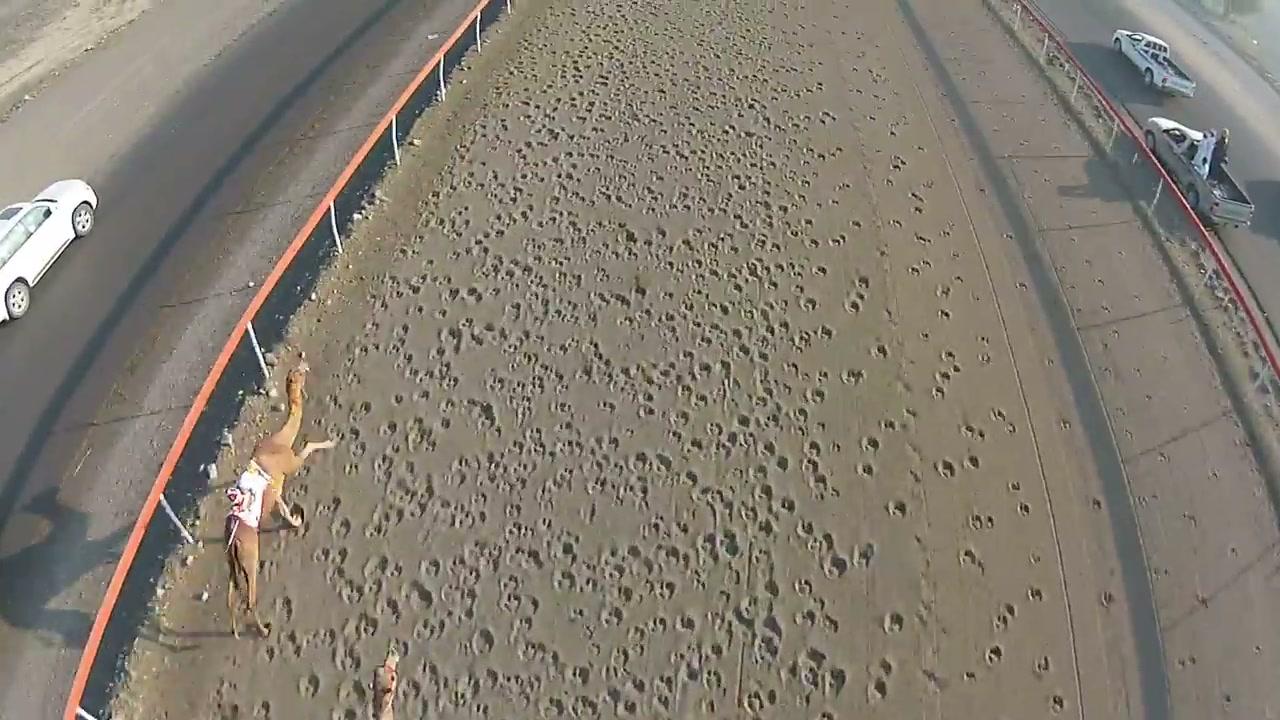animal_foot_print: (184, 0, 1076, 719)
